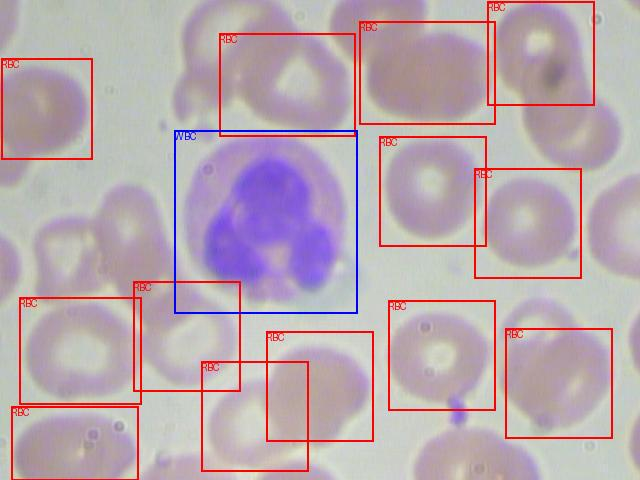RBC: (359, 21, 495, 124), (219, 33, 355, 136), (19, 297, 141, 404), (379, 136, 486, 246), (474, 168, 581, 278), (388, 300, 495, 410), (266, 331, 373, 441), (201, 361, 308, 471), (133, 281, 240, 391), (505, 328, 612, 438), (487, 1, 594, 105), (11, 406, 138, 480), (1, 58, 92, 159)
WBC: (174, 130, 357, 313)
